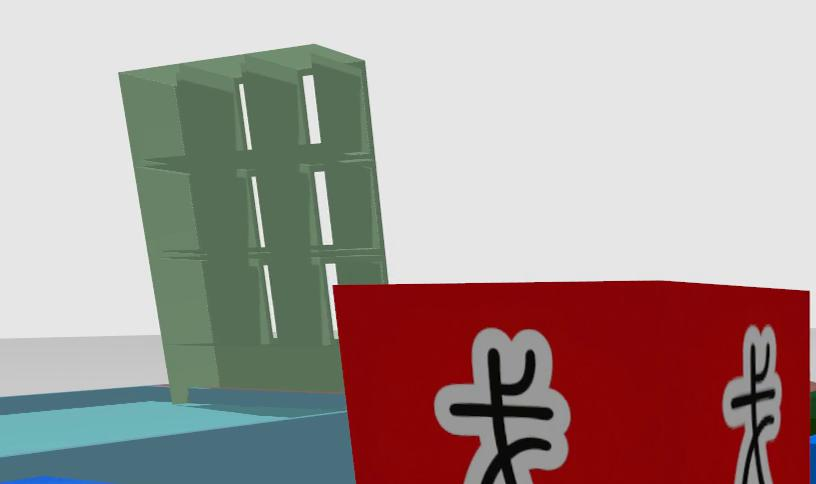KFS_FAKE: (335, 281, 808, 484), (435, 328, 570, 484), (722, 326, 783, 484)
KFS_REAL: (0, 476, 121, 484), (810, 434, 816, 484)
